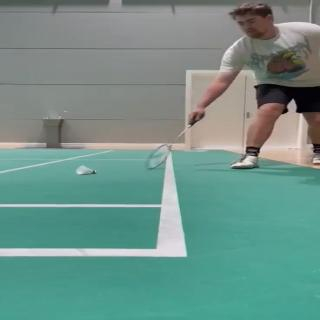Shuttle: (76, 165, 97, 175)
